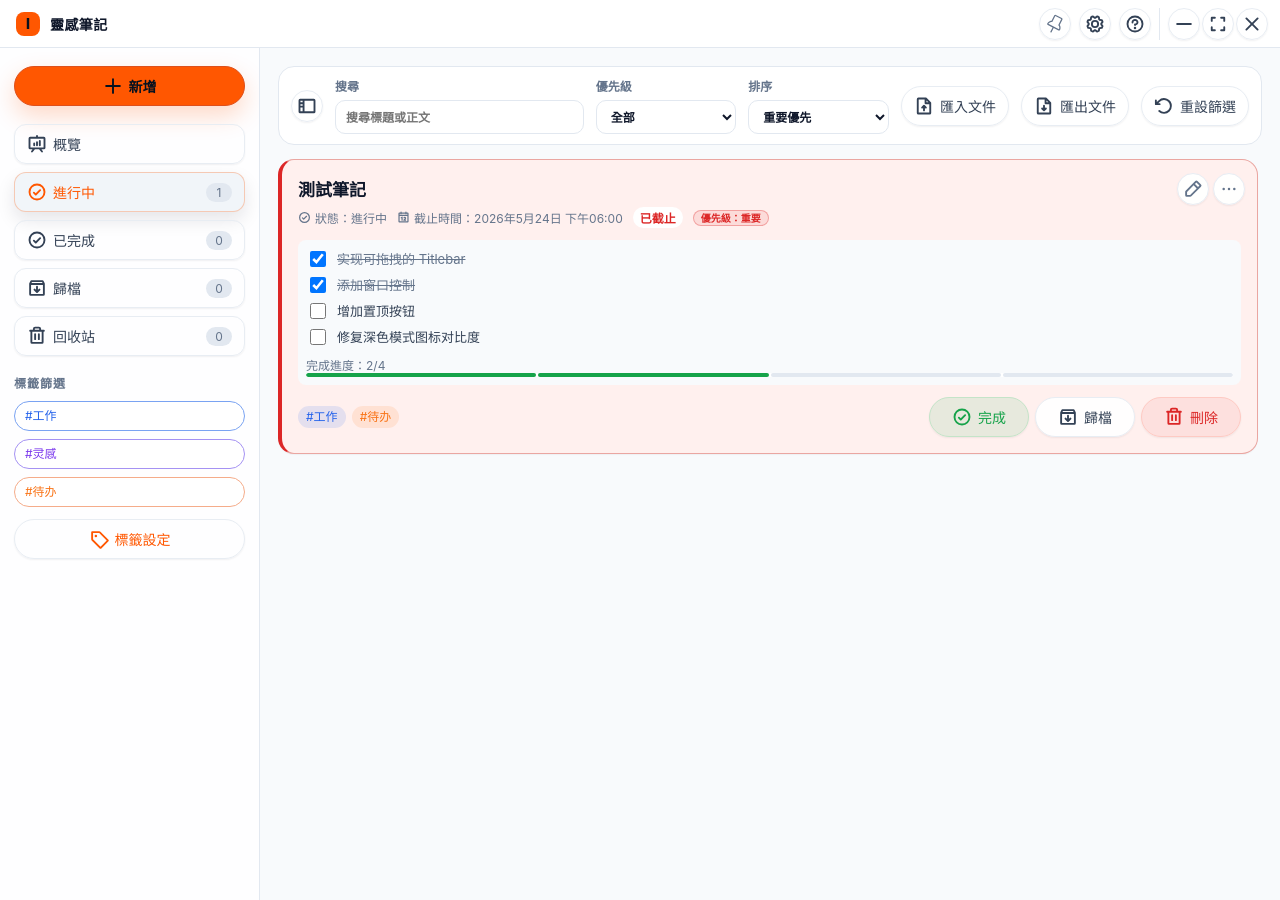
Test: App duplicate flow › zh-TW 复制笔记使用当前语言标题后缀
Expected: the button "測試筆記" is shown, x1=298 y1=176 x2=1181 y2=201
What coordinates should you click on to do the following:
click the button named "更多操作"
I would click on:
 (1229, 188)
Its box is x1=1213 y1=172 x2=1245 y2=204.
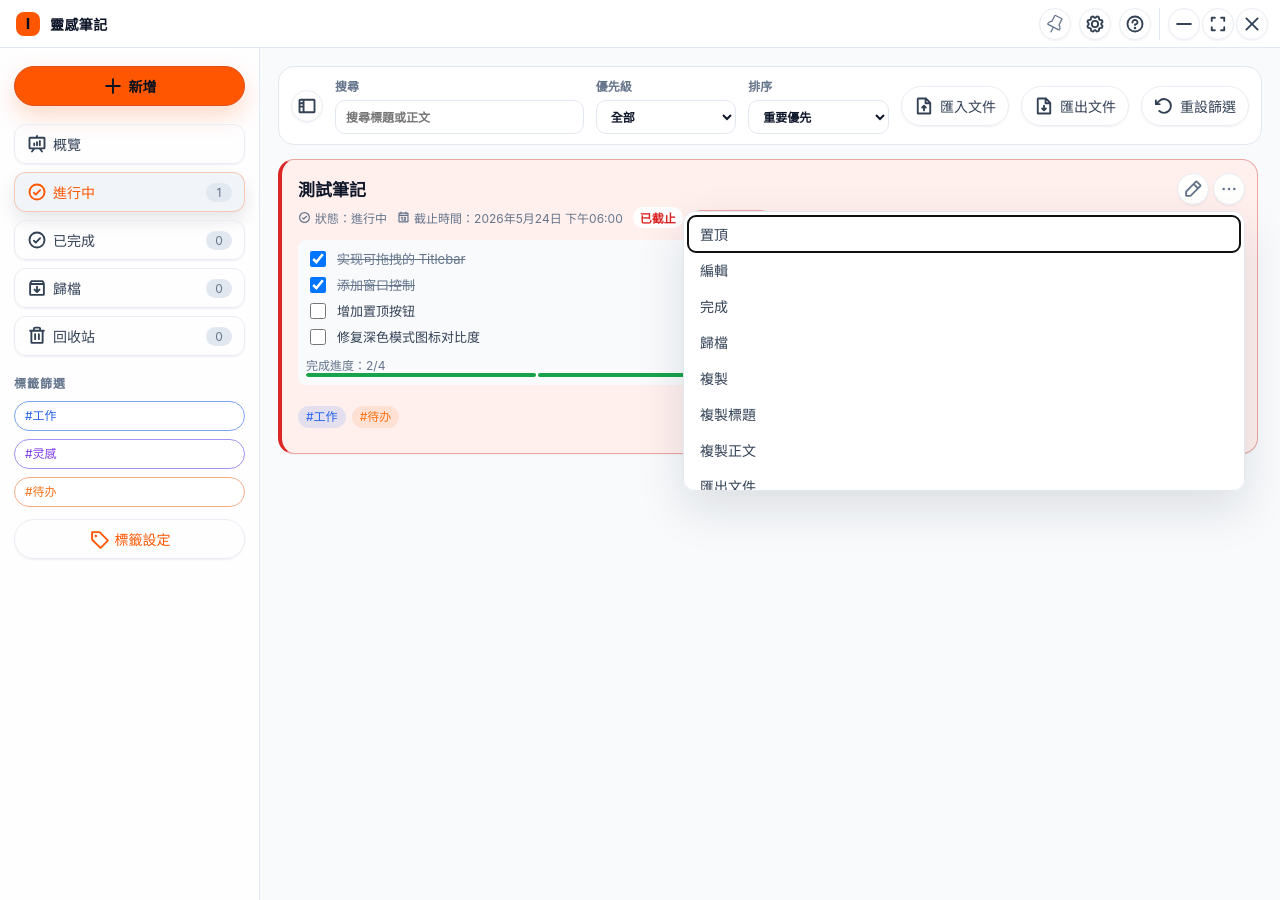
What coordinates should you click on to do the following:
click the menu item "複製"
I would click on:
 (714, 378)
Its box is x1=688 y1=360 x2=1240 y2=396.
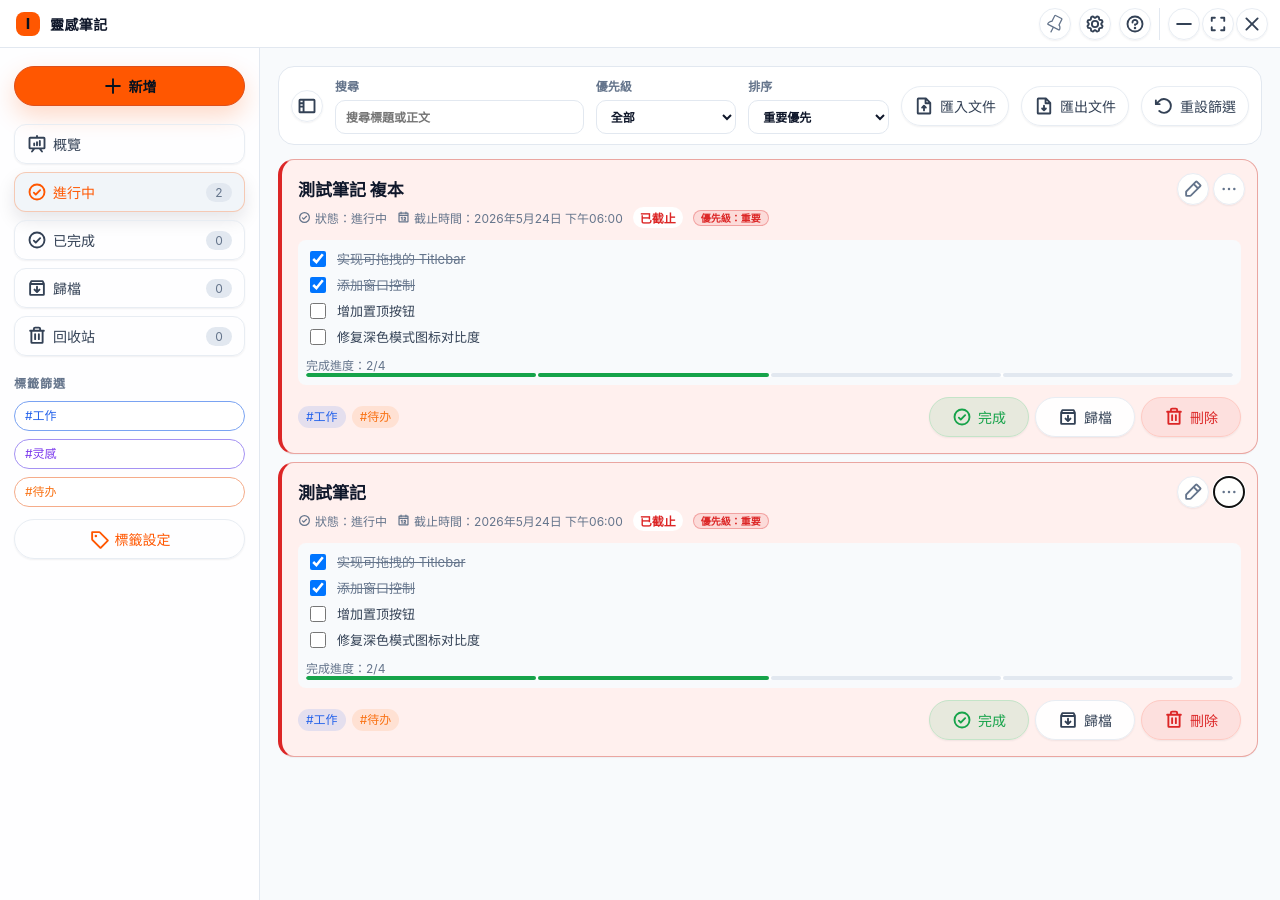
Now the button "測試筆記 複本" is shown, box x1=298 y1=176 x2=1181 y2=201
